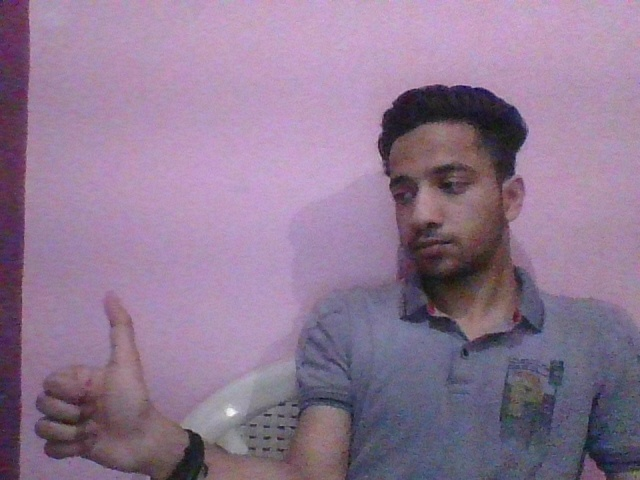thumbsup: (27, 293, 159, 469)
